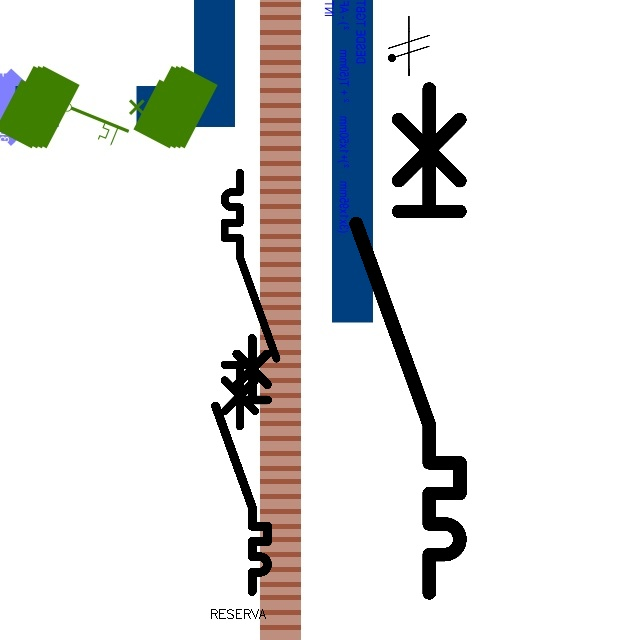interruptor_termomagnetico: (343, 75, 473, 605), (209, 332, 274, 598), (218, 166, 283, 432)
